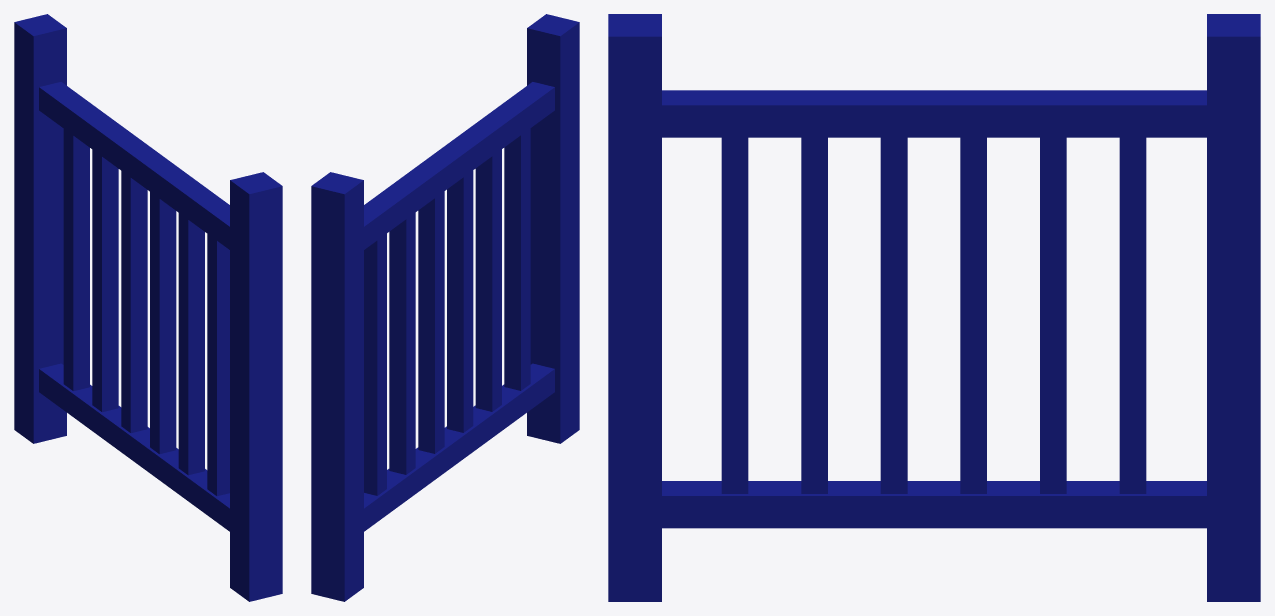
The model's file is SM_HouseFence.fbx.
The picture shows the model from 3 angles, left to right: view 1: azimuth 30°, elevation 25°; view 2: azimuth 150°, elevation 25°; view 3: azimuth 270°, elevation 25°; orthographic projection. The views are drawn at different scales.
Parts seen in each view (by area): view 1: SM_Barrier_001; view 2: SM_Barrier_001; view 3: SM_Barrier_001.
Part boxes in pixels (x1,y1,x2,y2): SM_Barrier_001: (14, 14, 282, 601); SM_Barrier_001: (311, 14, 579, 601); SM_Barrier_001: (608, 14, 1260, 601).
Bounding box in the file's own units: 12 × 140 × 146.
